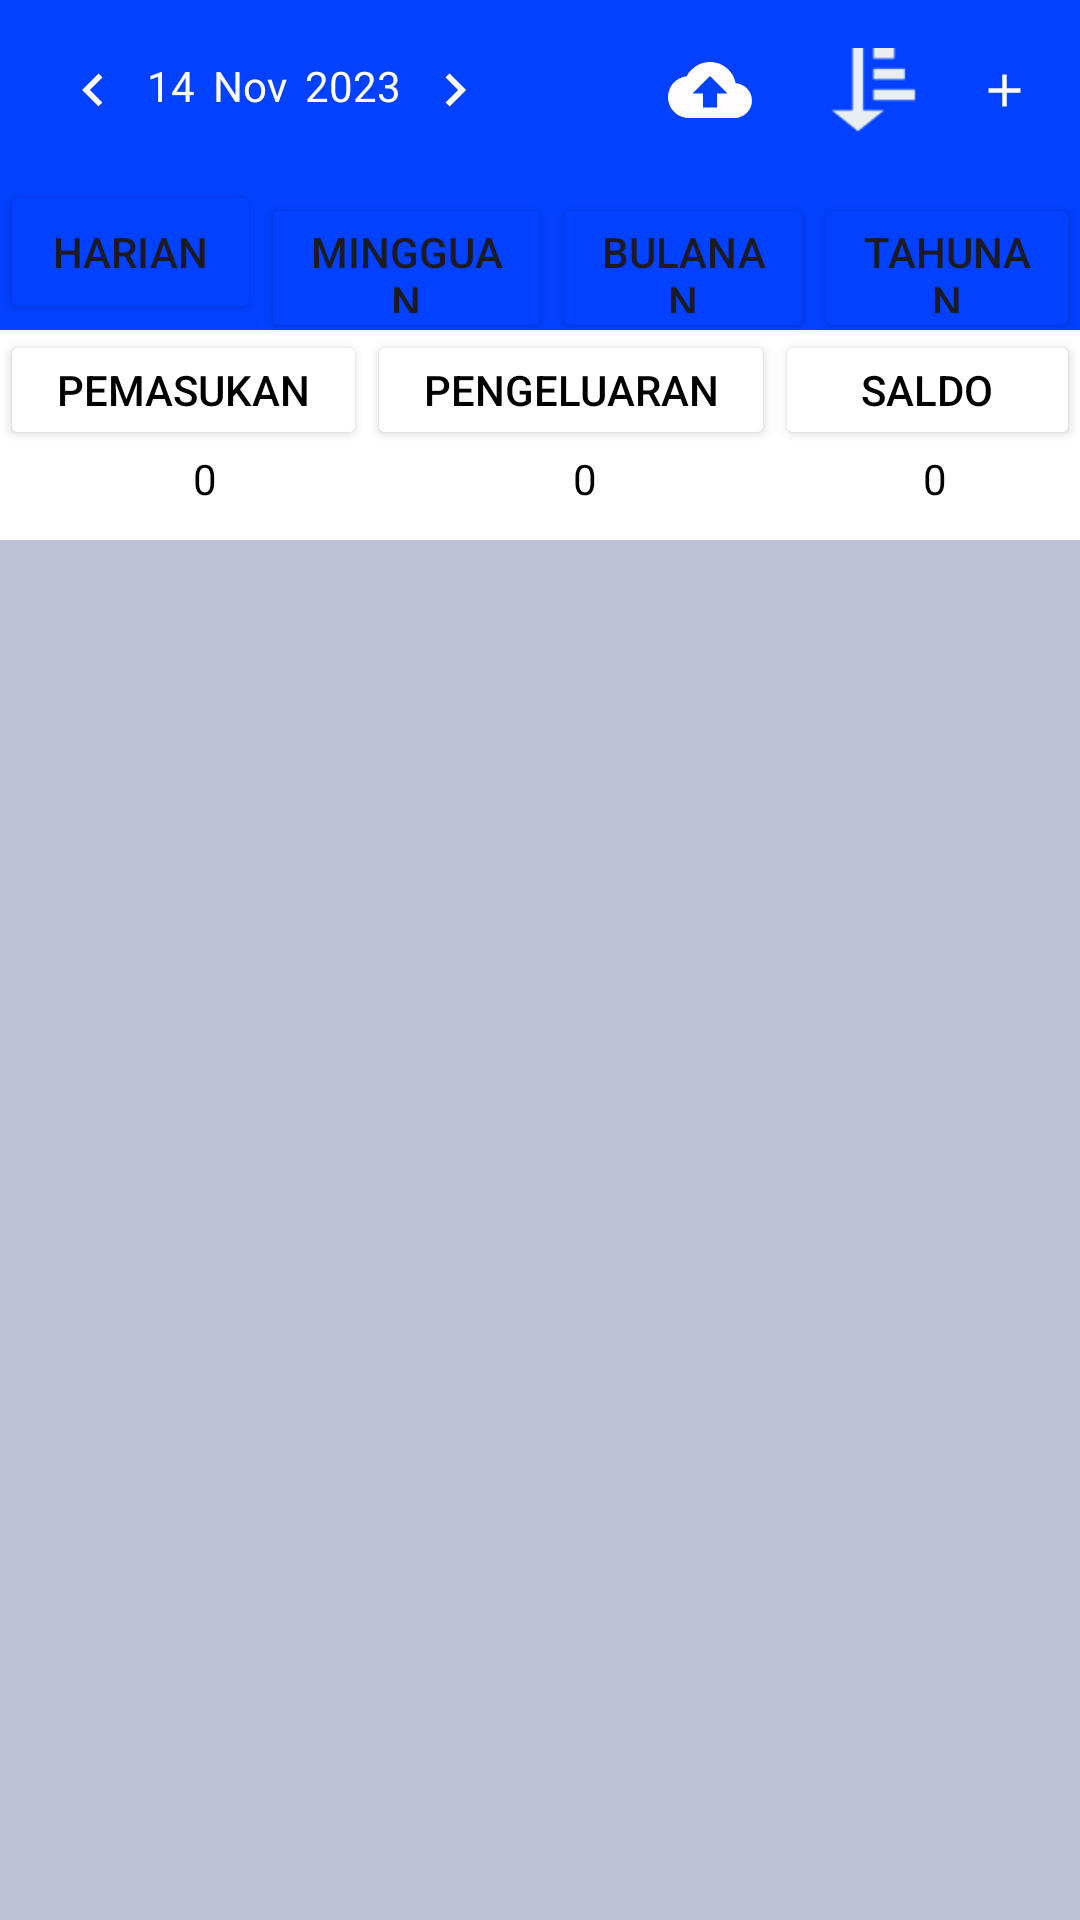

Named icons in this screenshot (1080px×1920px) and their centers, point (x, y):
kanan: point (455, 90)
kiri: point (92, 90)
listbawah: point (874, 90)
tambah: point (1004, 90)
upload: point (710, 90)
